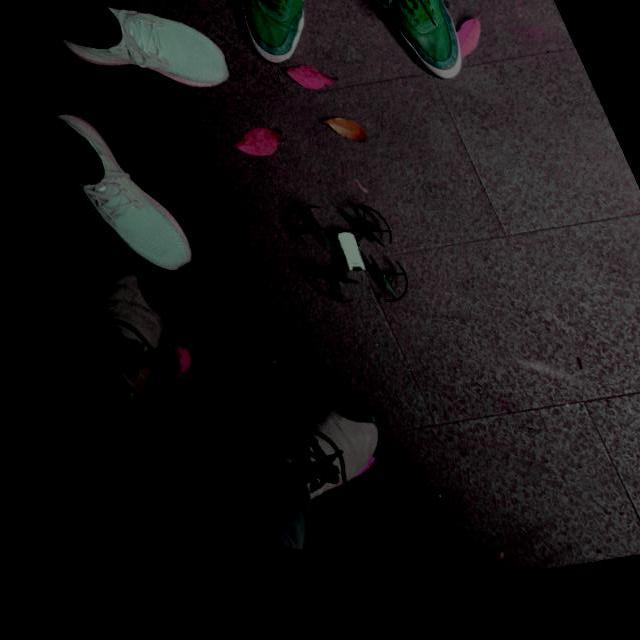drone: (288, 218, 399, 317)
